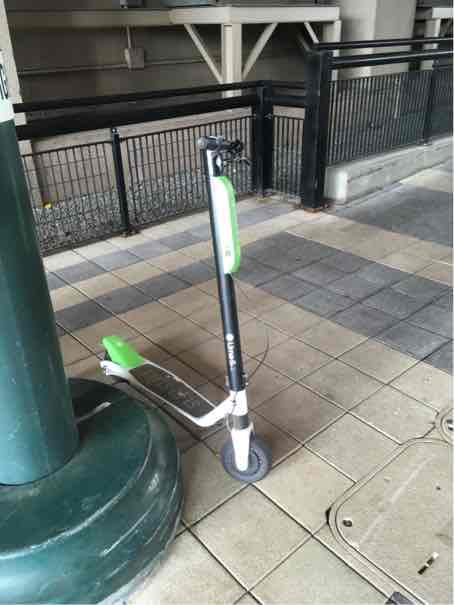scooter: (59, 87, 291, 486)
